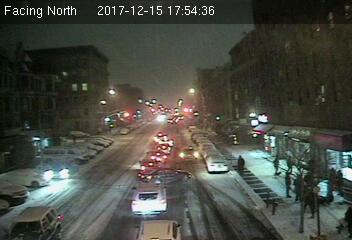car: (7, 206, 61, 240), (131, 181, 170, 218), (134, 216, 181, 240), (46, 160, 81, 182), (178, 145, 199, 164), (206, 157, 228, 173), (141, 156, 162, 172)
pedestrian: (237, 155, 247, 175), (273, 155, 281, 175)
